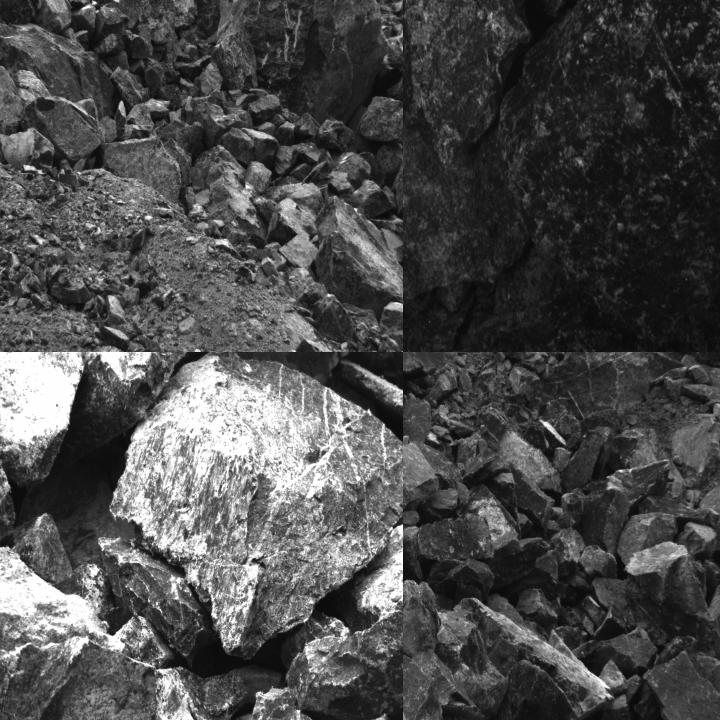stone: (109, 352, 402, 661), (478, 0, 719, 348), (403, 44, 525, 339), (0, 546, 165, 719), (229, 0, 388, 121), (460, 595, 614, 719), (403, 0, 530, 145), (51, 352, 188, 473), (284, 587, 402, 719), (432, 286, 667, 351), (594, 542, 719, 658), (0, 352, 85, 493), (315, 198, 402, 331), (540, 352, 686, 431), (436, 609, 510, 719), (102, 134, 187, 212), (19, 95, 104, 169), (643, 637, 719, 719), (410, 650, 495, 719), (498, 422, 563, 492), (419, 513, 494, 562), (616, 509, 676, 568), (672, 418, 719, 491), (564, 428, 614, 490), (580, 488, 628, 551), (211, 30, 258, 91), (595, 630, 659, 674), (403, 436, 441, 510), (606, 460, 669, 504), (403, 578, 439, 654), (117, 0, 176, 44), (610, 424, 664, 469), (340, 178, 397, 220), (403, 655, 439, 719), (311, 293, 354, 346), (638, 496, 719, 524), (266, 199, 318, 242), (513, 475, 553, 528), (359, 97, 402, 146), (441, 559, 495, 597), (463, 439, 509, 481), (516, 586, 562, 625), (489, 470, 521, 526), (110, 66, 150, 110), (0, 66, 24, 137), (215, 129, 254, 168), (676, 521, 714, 561), (29, 0, 72, 34), (403, 392, 431, 443), (194, 0, 232, 37), (578, 544, 620, 577), (318, 118, 355, 154), (327, 152, 371, 182), (556, 529, 583, 576), (555, 487, 585, 528), (367, 211, 402, 246), (14, 70, 51, 103), (93, 7, 130, 40), (190, 62, 223, 97), (705, 469, 719, 550), (380, 300, 402, 351), (248, 94, 284, 124), (479, 412, 504, 449), (0, 0, 42, 22), (295, 282, 328, 308), (94, 34, 125, 56), (123, 30, 147, 58), (158, 83, 182, 110), (683, 386, 719, 404), (226, 108, 253, 129), (690, 364, 713, 386), (552, 447, 571, 471), (95, 0, 121, 9)
